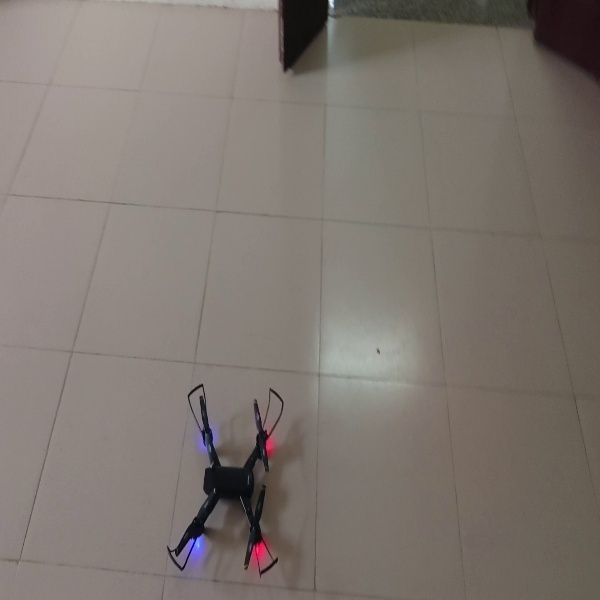drone: (166, 379, 284, 582)
